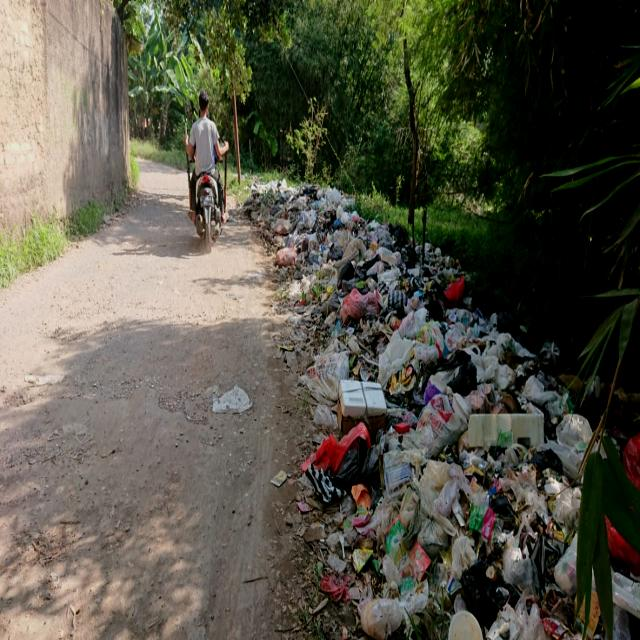garbage: (249, 128, 568, 640)
